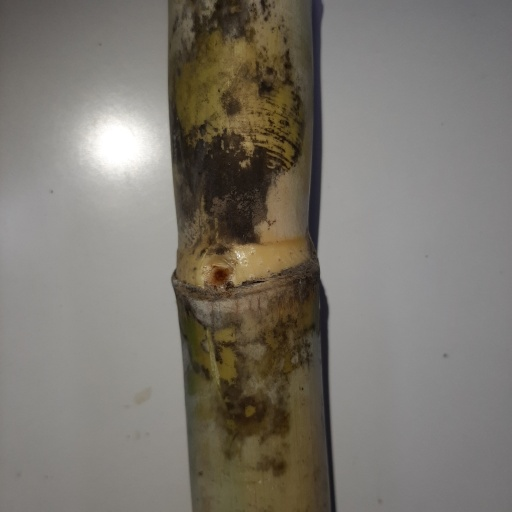Damage_Bud: (201, 264, 234, 287)
